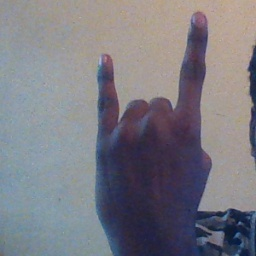V: (93, 8, 221, 231)
